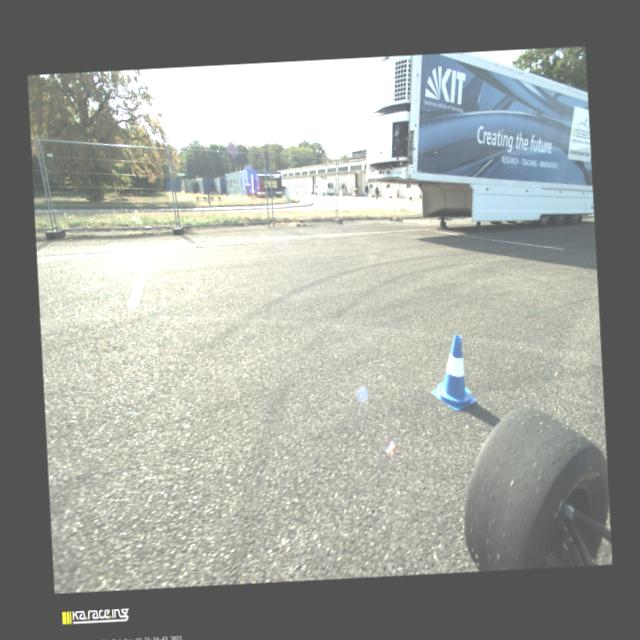blue_cone: (428, 334, 478, 412)
